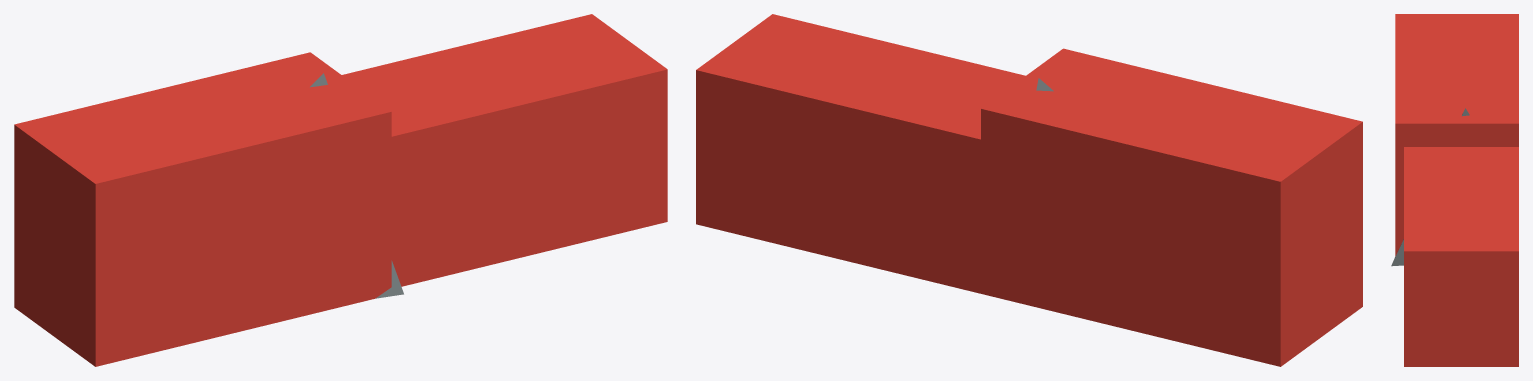
The model's file is ironwind_talus_cluster.glb.
The picture shows the model from 3 angles, left to right: view 1: azimuth 30°, elevation 25°; view 2: azimuth 150°, elevation 25°; view 3: azimuth 270°, elevation 25°; orthographic projection. The views are drawn at different scales.
Parts seen in each view (by area): view 1: ironwind_talus_cluster_exclusion_left, ironwind_talus_cluster_exclusion_right; view 2: ironwind_talus_cluster_exclusion_left, ironwind_talus_cluster_exclusion_right; view 3: ironwind_talus_cluster_exclusion_right, ironwind_talus_cluster_exclusion_left, ironwind_talus_cluster_lod0.
Part boxes in pixels (x1=…): ironwind_talus_cluster_exclusion_left: x1=14, y1=52, x2=391, y2=366; ironwind_talus_cluster_exclusion_right: x1=342, y1=14, x2=667, y2=286; ironwind_talus_cluster_exclusion_left: x1=981, y1=48, x2=1362, y2=366; ironwind_talus_cluster_exclusion_right: x1=696, y1=14, x2=1025, y2=294; ironwind_talus_cluster_exclusion_right: x1=1404, y1=147, x2=1518, y2=366; ironwind_talus_cluster_exclusion_left: x1=1395, y1=14, x2=1518, y2=256; ironwind_talus_cluster_lod0: x1=1391, y1=108, x2=1469, y2=266.
Size of what is drawn, in the model's own units: 11.9 by 3.8 by 3.
